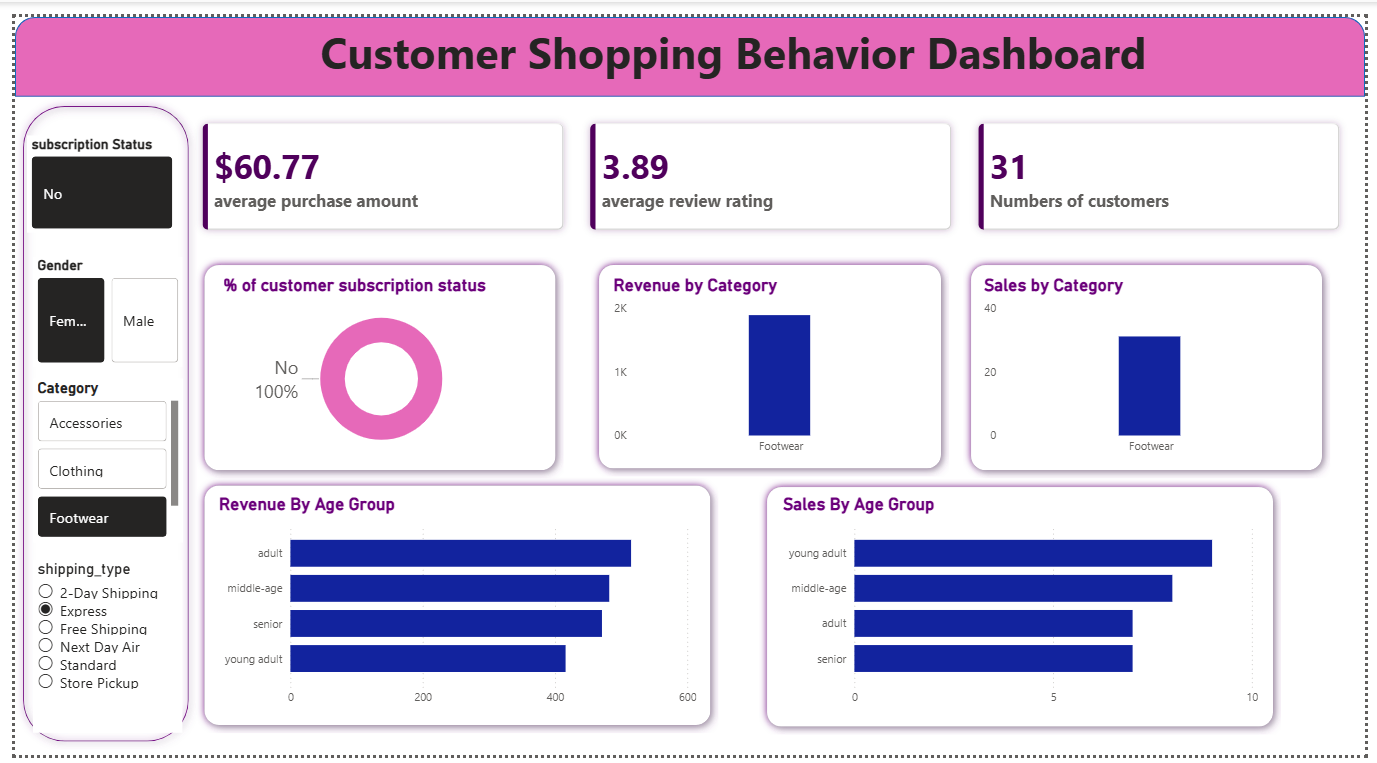

What the dashboard file says about the page in this screenshot:
{"tool":"powerbi","page":{"name":"Page 1","canvas":[1500,820],"ordinal":0},"visuals":[{"type":"cardVisual","fields":{"Data":["customer_behavior customer.average purchase amount","customer_behavior customer.average review rating","customer_behavior customer.Numbers of customers"]},"box":[180,90,1320,174],"z":0},{"type":"shape","box":[0,0,1500,88.6],"z":1000},{"type":"textbox","box":[135.8,0,1326.8,88.6],"z":2000},{"type":"shape","box":[202,266,408,246],"z":3000},{"type":"donutChart","title":"% of customer subscription status","fields":{"Category":["customer_behavior customer.subscription_status"],"Y":["CountNonNull(customer_behavior customer.customer_id)"]},"box":[226,286,360,208],"z":4000},{"type":"shape","box":[0,90,202,724],"z":5000},{"type":"advancedSlicerVisual","title":"subscription Status","fields":{"Values":["customer_behavior customer.subscription_status"]},"box":[14,132,166,108],"z":6000},{"type":"advancedSlicerVisual","title":"Gender","fields":{"Values":["customer_behavior customer.gender"]},"box":[20,266,166,122],"z":7000},{"type":"advancedSlicerVisual","title":"Category","fields":{"Values":["customer_behavior customer.category"]},"box":[20,402,166,182],"z":8000},{"type":"shape","box":[640,266,398,244],"z":9000},{"type":"clusteredColumnChart","title":"Revenue by Category","fields":{"Y":["Sum(customer_behavior customer.purchase_amount)"],"Category":["customer_behavior customer.category"]},"box":[660,286,358,208],"z":10000},{"type":"shape","box":[1054,266,408,246],"z":11000},{"type":"clusteredColumnChart","title":"Sales by Category","fields":{"Y":["CountNonNull(customer_behavior customer.customer_id)"],"Category":["customer_behavior customer.category"]},"box":[1072,286,358,208],"z":12000},{"type":"listSlicer","fields":{"Values":["customer_behavior customer.shipping_type"]},"box":[20,604,166,192],"z":13000},{"type":"shape","box":[202,512,580,284],"z":14000},{"type":"clusteredBarChart","title":"Revenue By Age Group  ","fields":{"Y":["Sum(customer_behavior customer.purchase_amount)"],"Category":["customer_behavior customer.age_group"]},"box":[243.1,512.8,539.4,243.1],"z":15000},{"type":"shape","box":[826.8,513.8,580.1,284.1],"z":16000},{"type":"clusteredBarChart","title":"Sales By Age Group  ","fields":{"Y":["CountNonNull(customer_behavior customer.customer_id)"],"Category":["customer_behavior customer.age_group"]},"box":[848.9,530.8,537.6,243.3],"z":17000}]}

Visuals, with their boxes in screenshot pixels (x1, y1, x2, y2), scaled from the page's 1500x820 canvas onto the 1377x763 screenshot:
cardVisual - customer_behavior customer.average purchase amount x customer_behavior customer.average review rating: (x1=165, y1=84, x2=1376, y2=246)
shape: (x1=0, y1=0, x2=1376, y2=82)
textbox: (x1=125, y1=0, x2=1343, y2=82)
shape: (x1=185, y1=248, x2=560, y2=476)
"% of customer subscription status" donutChart: (x1=207, y1=266, x2=538, y2=460)
shape: (x1=0, y1=84, x2=185, y2=757)
"subscription Status" advancedSlicerVisual: (x1=13, y1=123, x2=165, y2=223)
"Gender" advancedSlicerVisual: (x1=18, y1=248, x2=171, y2=361)
"Category" advancedSlicerVisual: (x1=18, y1=374, x2=171, y2=543)
shape: (x1=588, y1=248, x2=953, y2=475)
"Revenue by Category" clusteredColumnChart: (x1=606, y1=266, x2=935, y2=460)
shape: (x1=968, y1=248, x2=1342, y2=476)
"Sales by Category" clusteredColumnChart: (x1=984, y1=266, x2=1313, y2=460)
listSlicer - customer_behavior customer.shipping_type: (x1=18, y1=562, x2=171, y2=741)
shape: (x1=185, y1=476, x2=718, y2=741)
"Revenue By Age Group  " clusteredBarChart: (x1=223, y1=477, x2=718, y2=703)
shape: (x1=759, y1=478, x2=1292, y2=742)
"Sales By Age Group  " clusteredBarChart: (x1=779, y1=494, x2=1273, y2=720)
